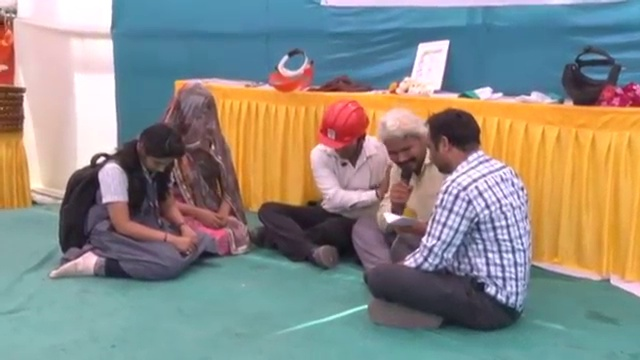helmet: (314, 101, 368, 150)
helmet_off: (423, 108, 484, 178), (166, 83, 222, 154), (133, 122, 185, 183), (381, 110, 429, 173)
helmet_on: (315, 101, 370, 165)
person: (363, 111, 535, 326), (49, 120, 206, 282), (263, 100, 390, 260), (154, 77, 252, 253), (349, 111, 453, 270)
